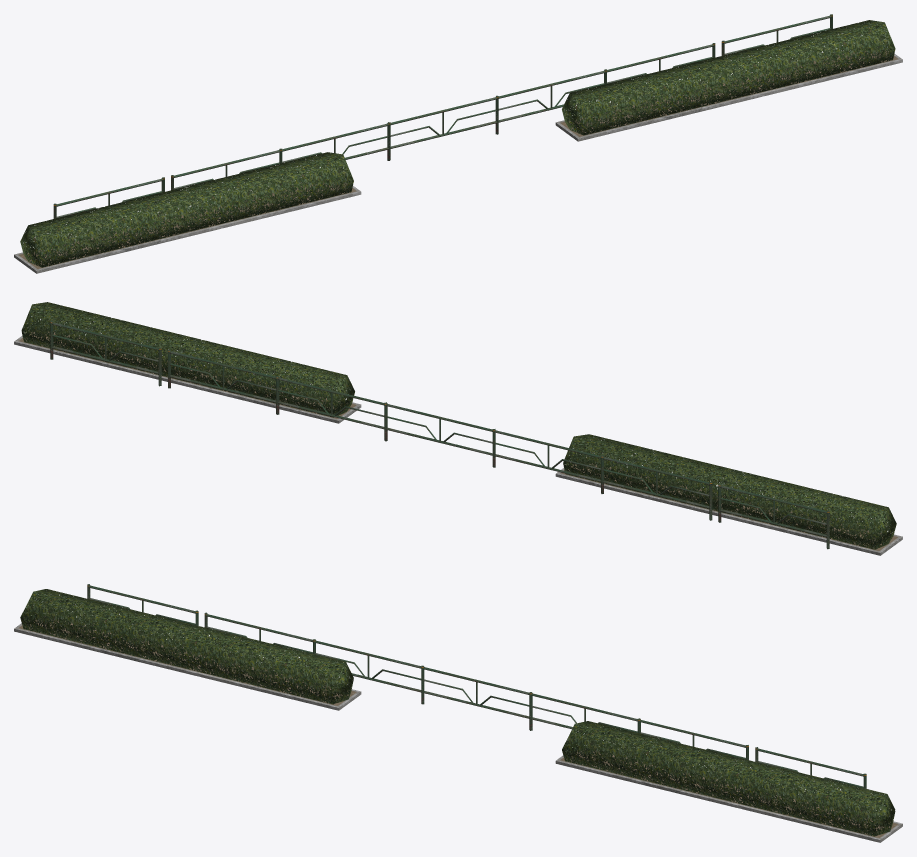
Rendered from jctlowStr_sideA.fbx.
3 views of the same model, one above another, from view 1: azimuth 30°, elevation 25°; view 2: azimuth 150°, elevation 25°; view 3: azimuth 330°, elevation 25° (orthographic).
Visible parts, largest first — view 1: jctlowStr_sideA; view 2: jctlowStr_sideA; view 3: jctlowStr_sideA.
Boxes of the visible parts, bbox=[...] form: jctlowStr_sideA: bbox=[14, 14, 902, 273]; jctlowStr_sideA: bbox=[14, 302, 902, 555]; jctlowStr_sideA: bbox=[14, 584, 902, 842].
Bounding box in the file's own units: 1600 × 66.5 × 92.68.
Materials: 2 (2 with a texture image).
